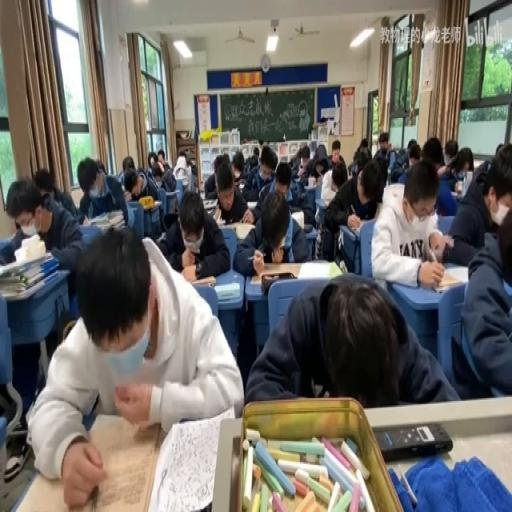calculator: (416, 264, 467, 292), (298, 260, 343, 280), (214, 282, 240, 300), (0, 233, 14, 263), (233, 222, 254, 240), (187, 273, 216, 286), (348, 218, 366, 236), (314, 195, 327, 219), (290, 209, 304, 229), (462, 165, 472, 188), (202, 196, 217, 208), (213, 205, 222, 222), (338, 257, 347, 273), (178, 175, 190, 186), (81, 215, 93, 226), (219, 222, 235, 230), (304, 222, 315, 233), (152, 176, 162, 188), (147, 198, 161, 206), (246, 199, 258, 208), (450, 191, 460, 199), (155, 232, 165, 240), (198, 189, 206, 199), (308, 176, 314, 188)
paper: (26, 226, 236, 509), (246, 273, 457, 405), (371, 156, 454, 289), (2, 174, 82, 280), (444, 146, 510, 269), (233, 182, 310, 272), (324, 155, 383, 266), (160, 188, 230, 277), (78, 155, 130, 233), (242, 142, 276, 204), (298, 142, 330, 185), (124, 165, 156, 205), (202, 152, 228, 198), (387, 140, 412, 180), (421, 135, 443, 171), (326, 138, 346, 176), (320, 169, 339, 206), (348, 141, 368, 176), (374, 129, 392, 165), (33, 168, 54, 195), (470, 154, 490, 182), (274, 161, 290, 195), (443, 137, 458, 165), (146, 154, 162, 179), (230, 151, 244, 179), (161, 169, 176, 192), (288, 150, 301, 174), (187, 160, 197, 180), (122, 154, 134, 170), (406, 138, 417, 154), (117, 166, 126, 185), (94, 158, 105, 173), (494, 144, 504, 155), (408, 155, 418, 165), (359, 138, 368, 149), (252, 145, 259, 157)
person: (374, 422, 452, 461), (261, 272, 296, 294)
